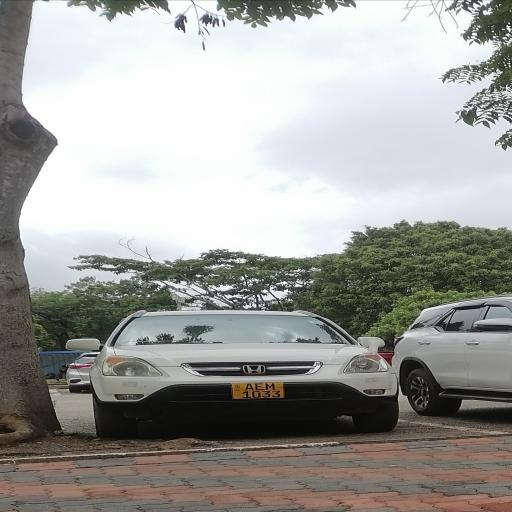number-plates: (232, 377, 285, 402)
